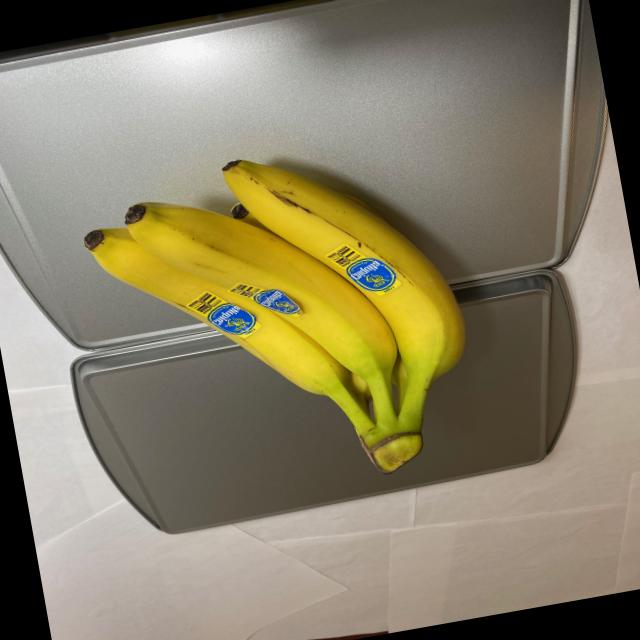banana: (70, 120, 493, 519)
